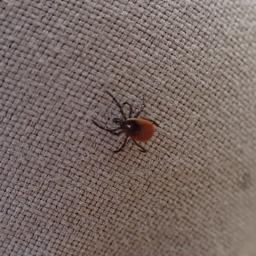Ixodes scapularis: (91, 91, 162, 153)
